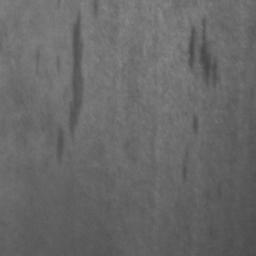Inclusion: (68, 15, 86, 132), (189, 29, 212, 81), (56, 131, 64, 160)
